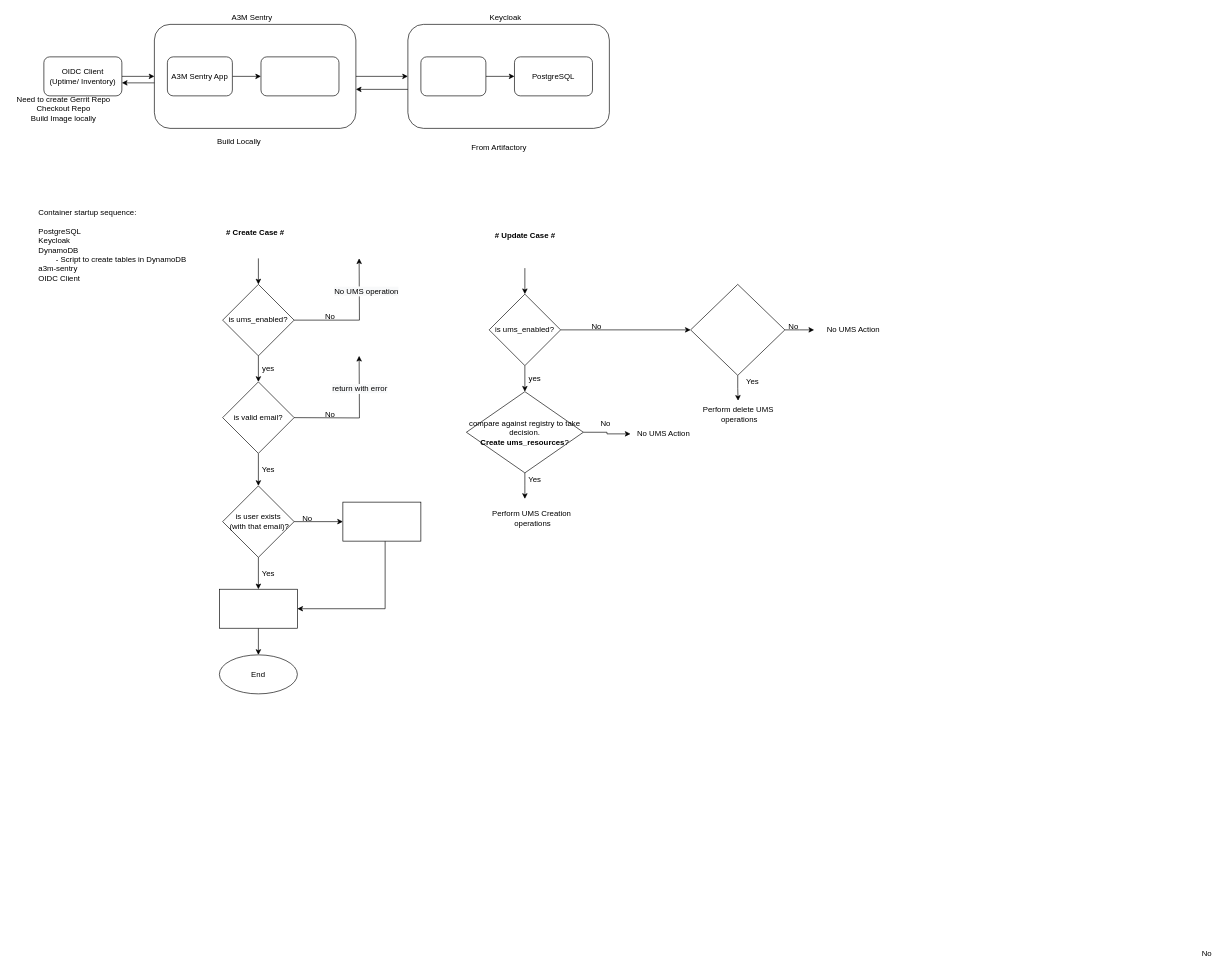
Image size: 1230x974. Some labels were removed from this diagram. Here are the shapes that lost their labels. From the top down, the centre of each, then its label:
At point (299, 76): "DynamoDB".
At point (453, 76): "Keycloak App".
At point (737, 329): "compare against registry to take decision. delete ums_resources ?".
At point (381, 521): "Create User".
At point (258, 608): "Assign ums_admin role".
